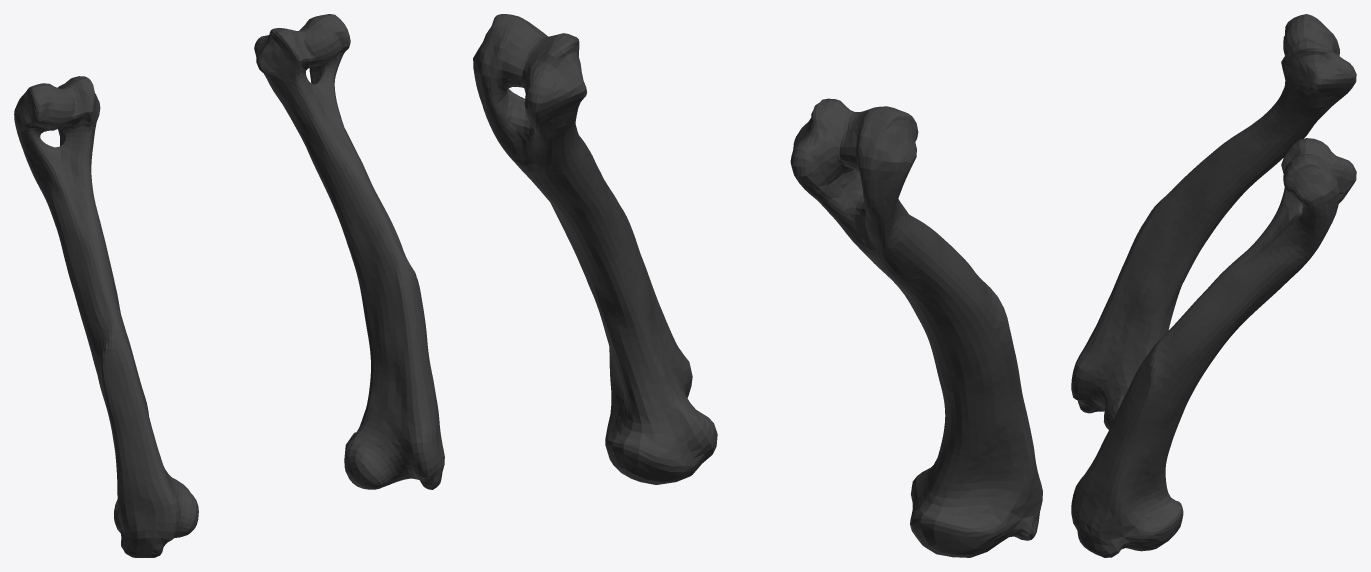
File: Humerus_1.glb
The picture shows the model from 3 angles, left to right: view 1: azimuth 30°, elevation 25°; view 2: azimuth 150°, elevation 25°; view 3: azimuth 270°, elevation 25°; orthographic projection. The views are drawn at different scales.
Visible parts, largest first — view 1: Humerus_1; view 2: Humerus_1; view 3: Humerus_1.
Boxes of the visible parts, x1,y1,x2,y2 form: Humerus_1: (14,14,444,557); Humerus_1: (473,14,1042,557); Humerus_1: (1071,14,1356,557).
Bounding box in the file's own units: 0.00425 × 0.00498 × 0.00319.
Materials: 1 (1 with a texture image).
